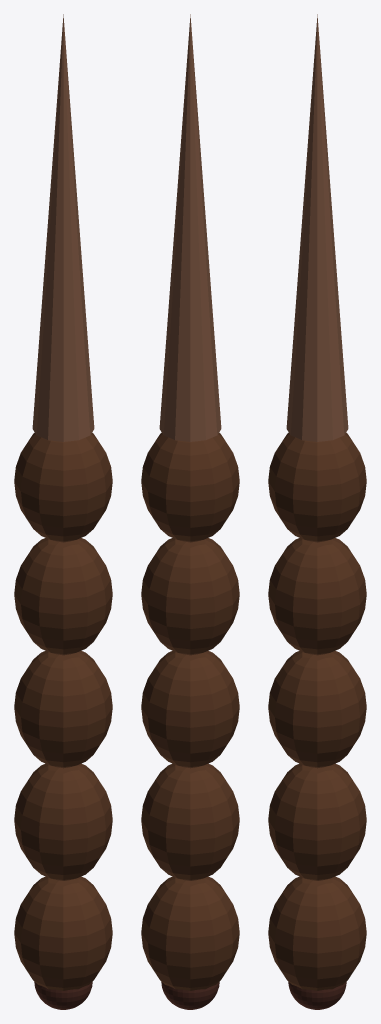
The model's file is Wand 223.glb.
3 renders of one model, left to right at view 1: azimuth 30°, elevation 25°; view 2: azimuth 210°, elevation 25°; view 3: azimuth 270°, elevation 25°, orthographic.
Visible parts, largest first — view 1: GeneratedWand; view 2: GeneratedWand; view 3: GeneratedWand.
Boxes of the visible parts, left/top/right/bottom form: GeneratedWand: left=14, top=14, right=112, bottom=1009; GeneratedWand: left=141, top=14, right=239, bottom=1009; GeneratedWand: left=268, top=14, right=366, bottom=1009.
Size of the model in its own units: 0.0447 by 0.499 by 0.0449.
